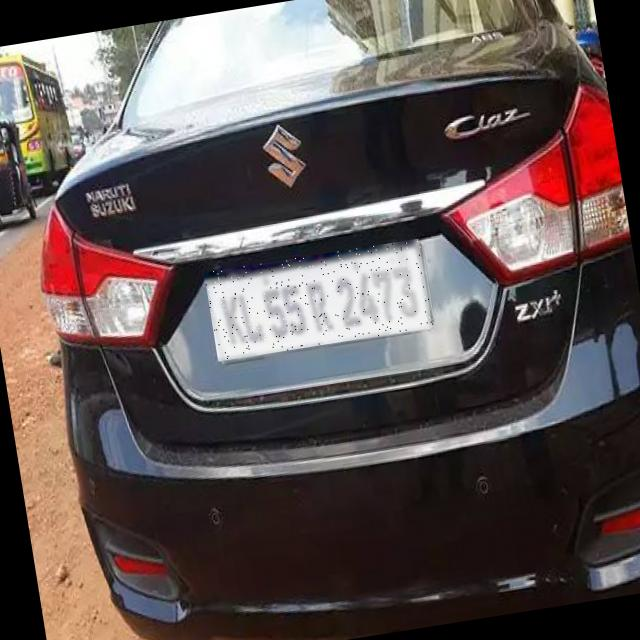Plate: (206, 240, 435, 363)
